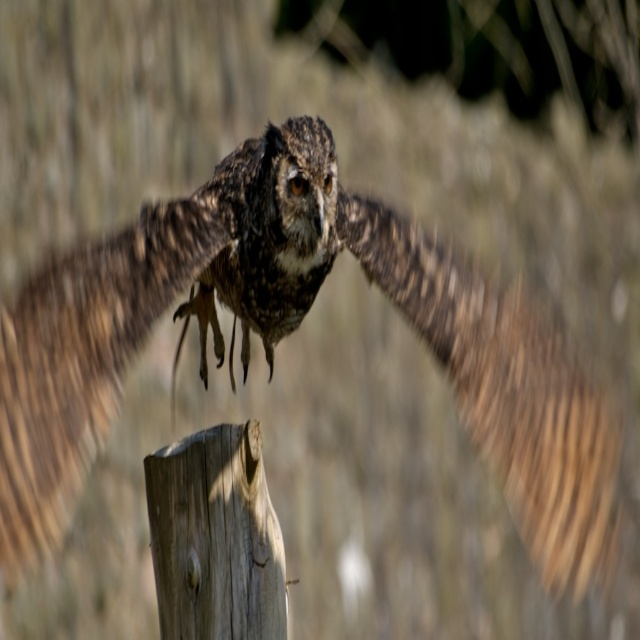Owl: (1, 109, 632, 610)
